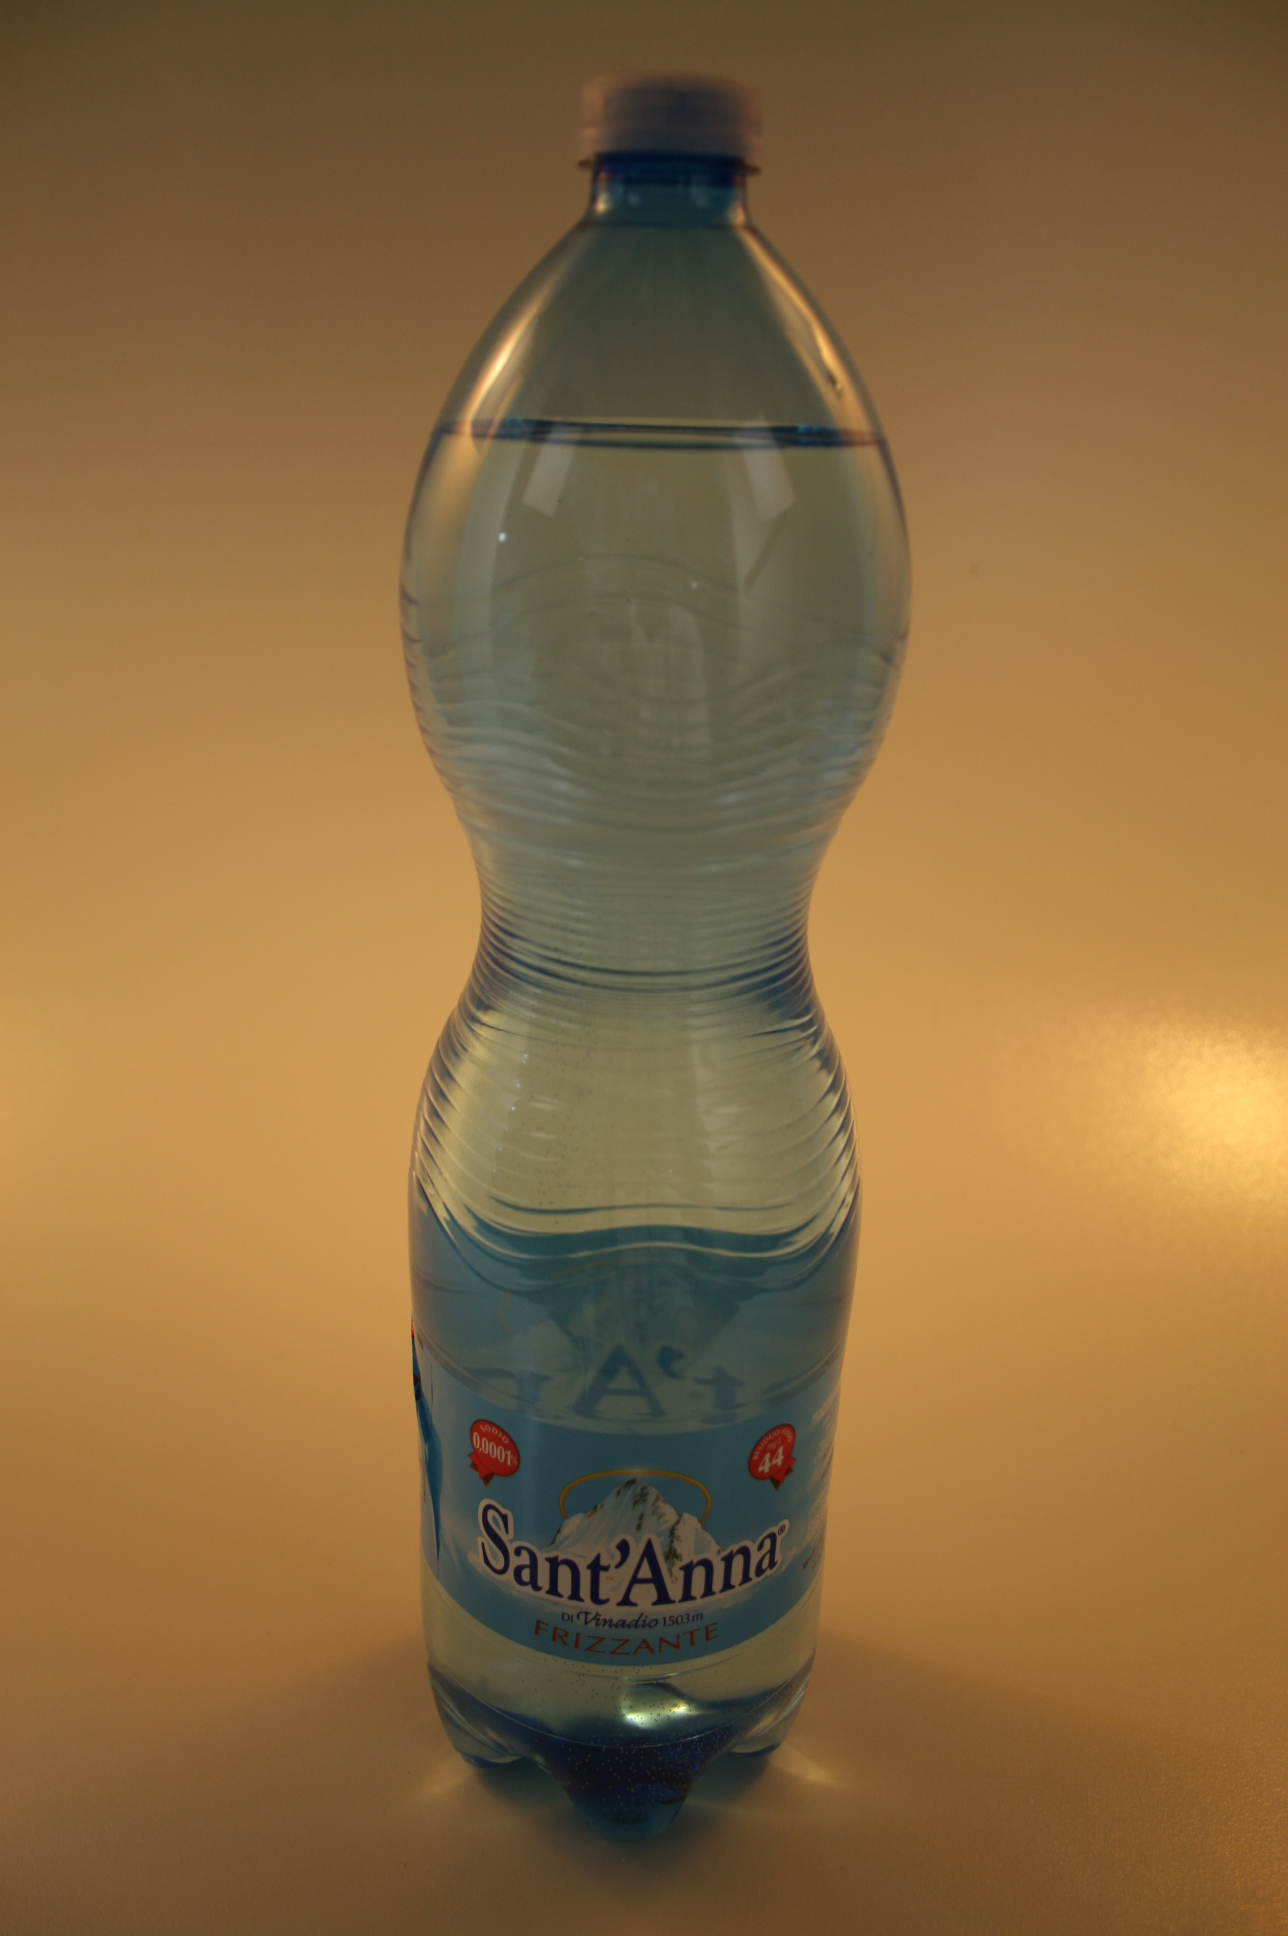PlasticBottle: (382, 46, 929, 1853)
